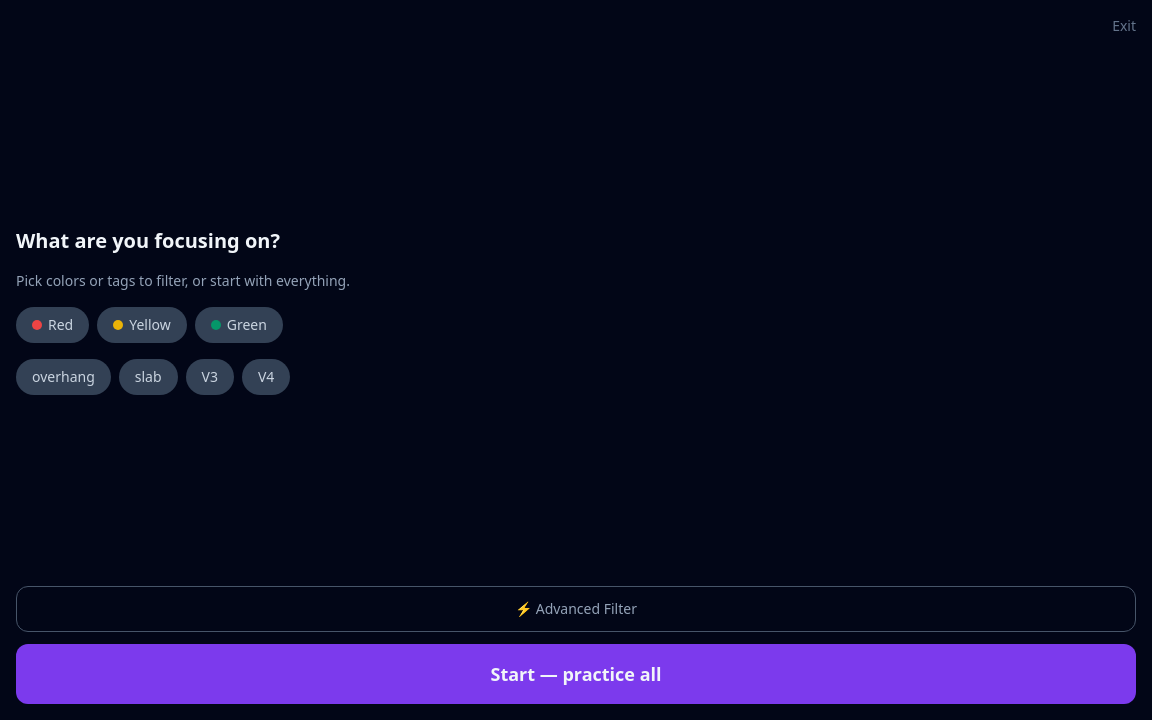
Test case: item screen › shows the item's own tags as labels, not every tag as a filter toggle
Click the button "V3".
click(210, 377)  # box [186,359,234,395]
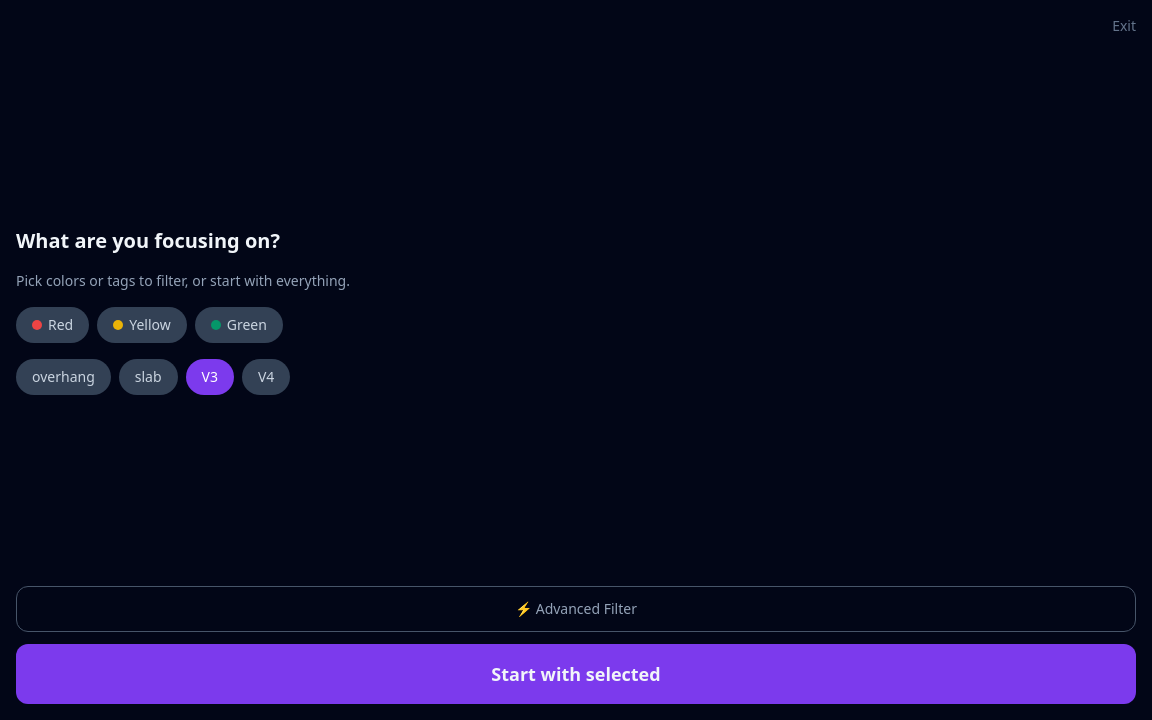
Click the button "Start with selected".
click(576, 674)  # box [16,644,1136,704]
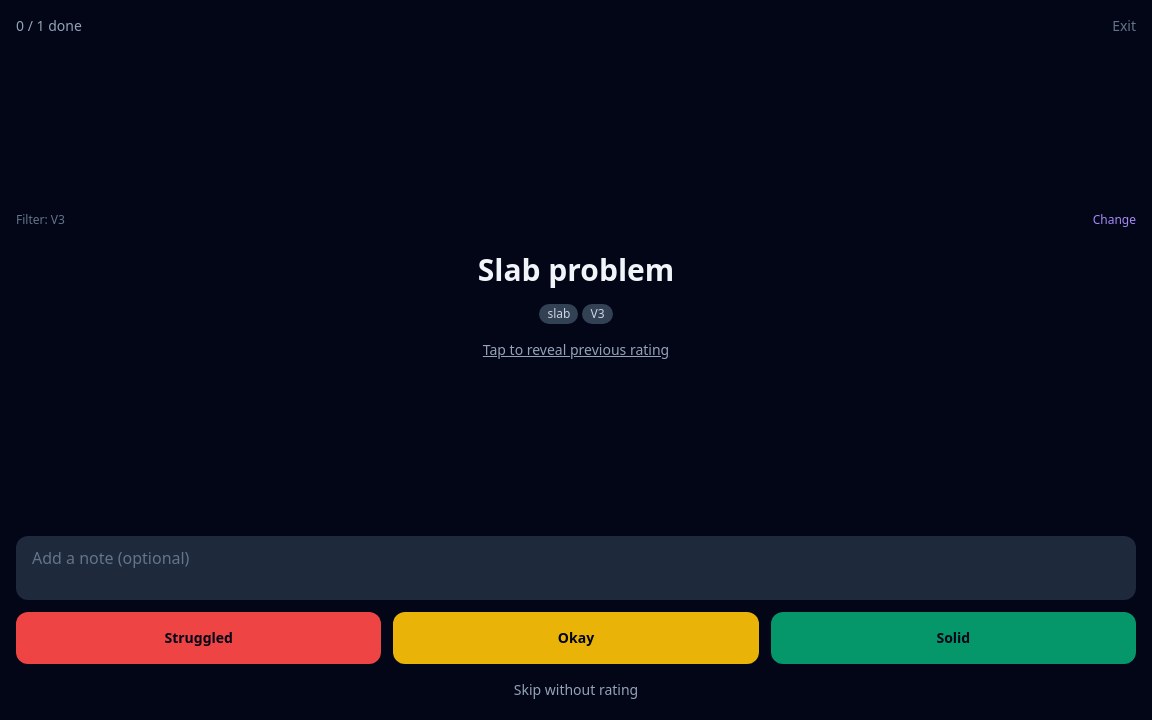
Expected: the text "Slab problem" is shown, [478,252,674,288]
Expected: the text "slab" is shown, [540,304,578,324]
Expected: the button "overhang" is gone
